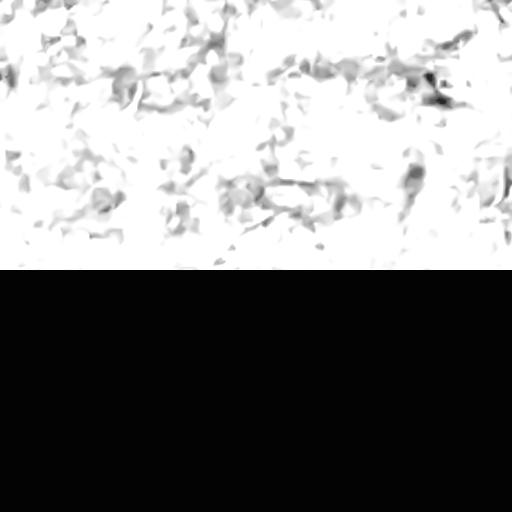egg: (422, 71, 451, 107)
